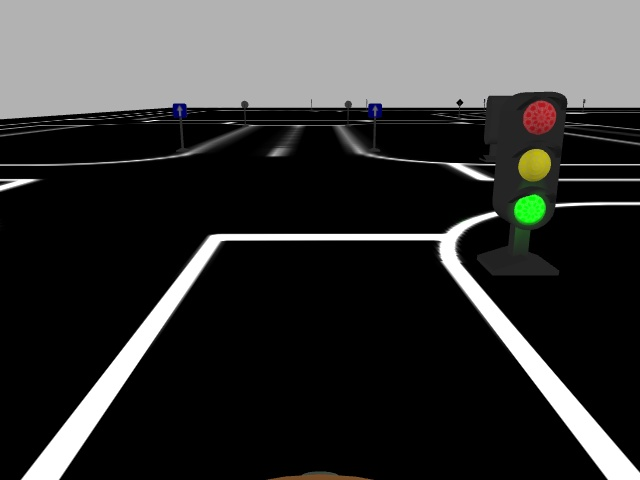green_light: (490, 91, 570, 229)
oneway: (366, 102, 383, 119), (171, 102, 187, 120)
